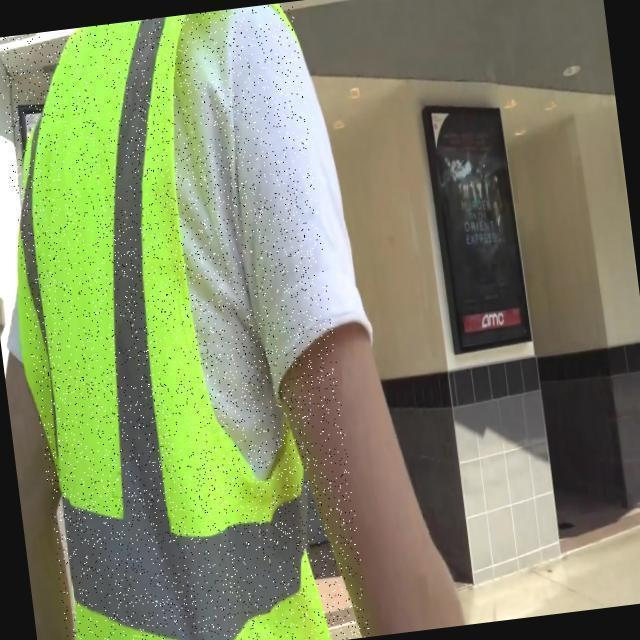safety_helmet: (0, 1, 369, 640)
